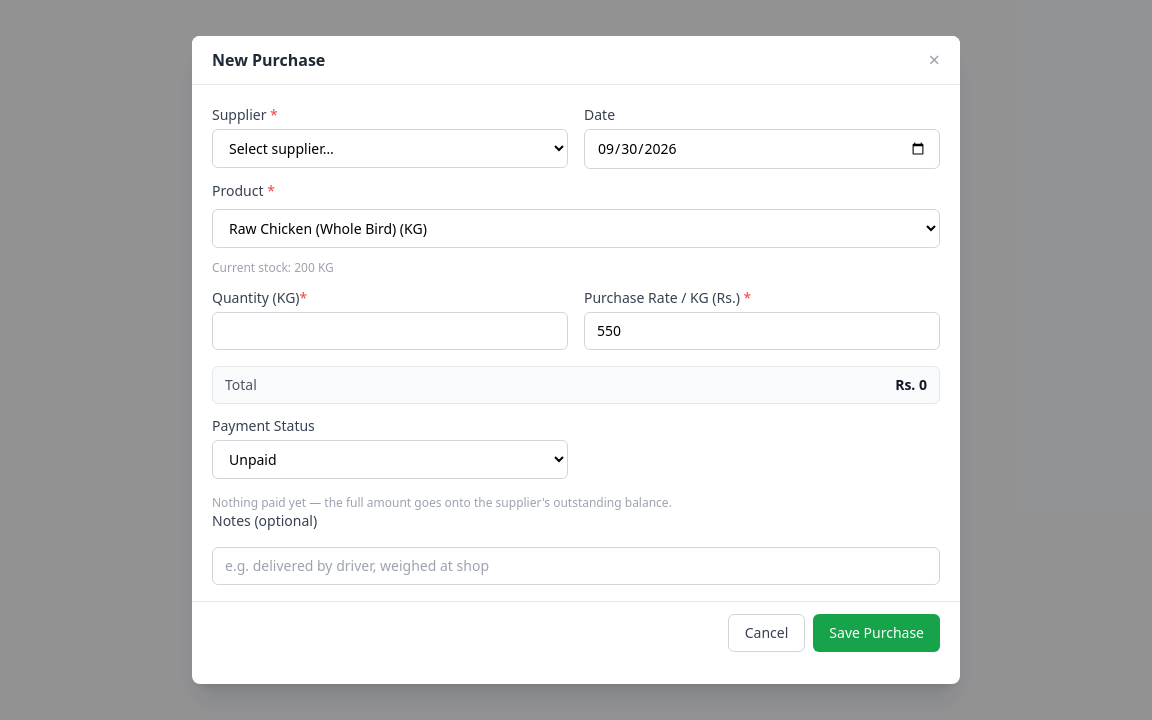
Test: NewPurchaseModal — Payment Status › Partially Paid requires and sends the entered amount
The image size is (1152, 720).
Check: the dropdown named "Product" shows "Raw Chicken (Whole Bird) (KG)", box [212,209,940,248]
Select "Ahmed Live Chicken Supplier" in the dropdown named "Supplier": {"x": 390, "y": 148} [212,129,568,168]
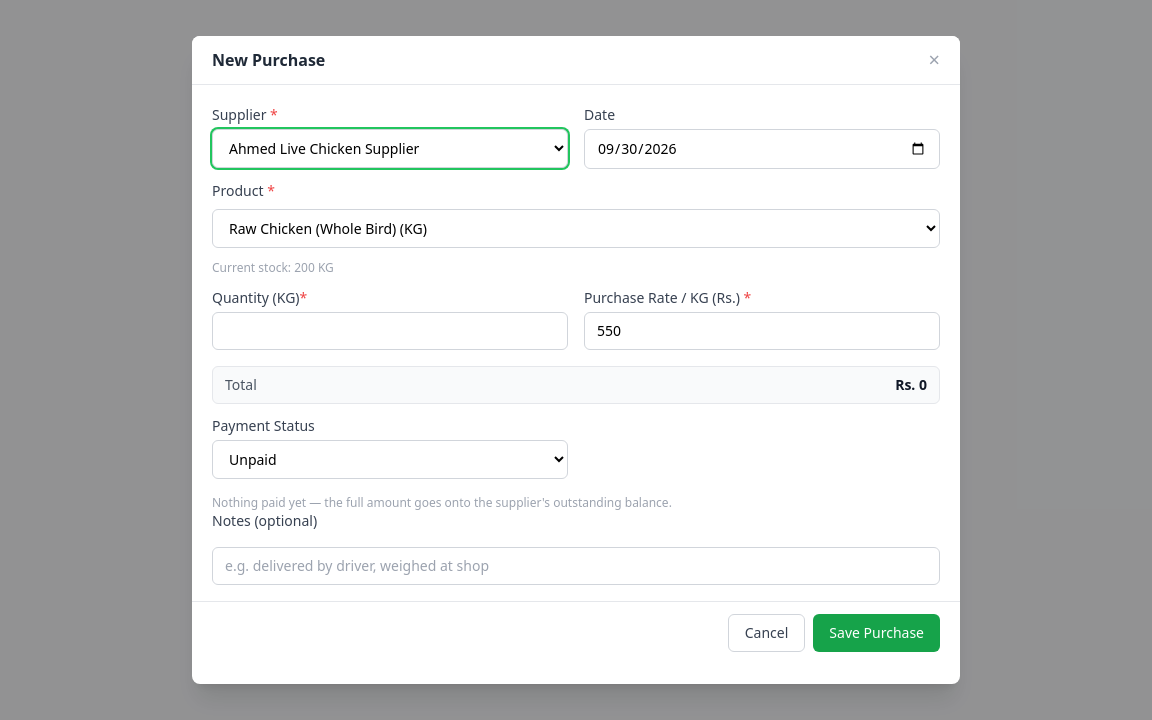
In the number field named "Quantity": {"x": 390, "y": 331} [212,312,568,350], type "100"
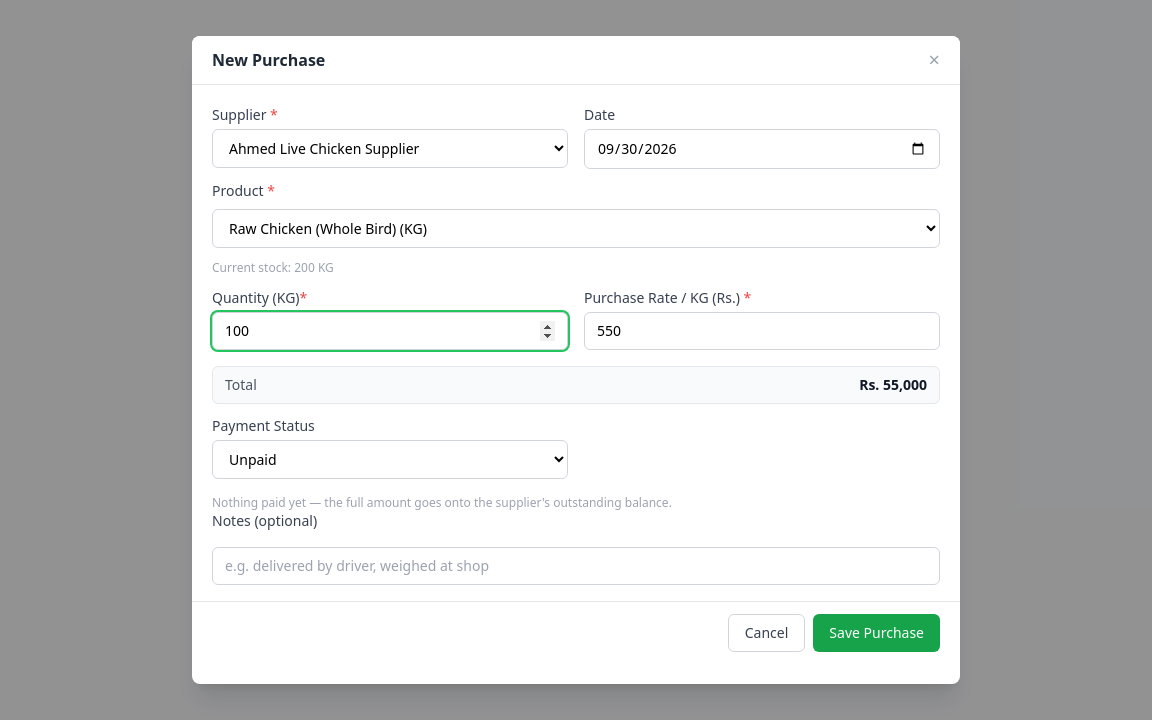
Select "Partially Paid" in the dropdown named "Payment Status": {"x": 390, "y": 460} [212,440,568,479]
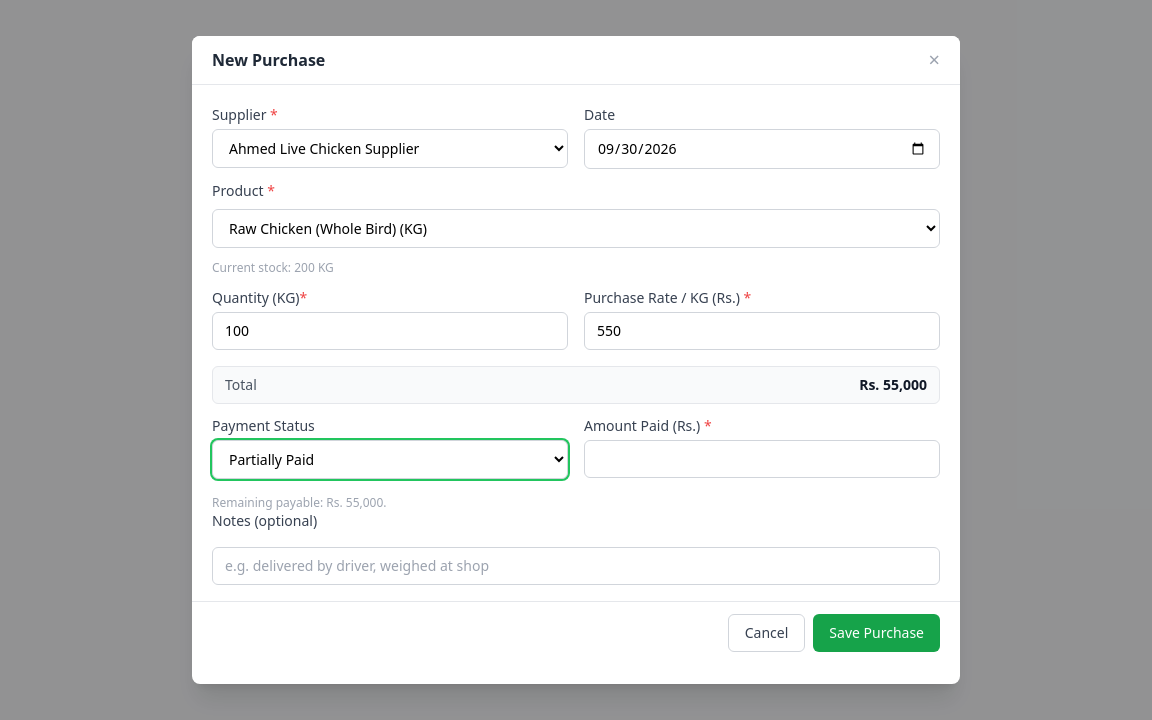
Click the button "Save Purchase": {"x": 877, "y": 633} [813,614,940,652]
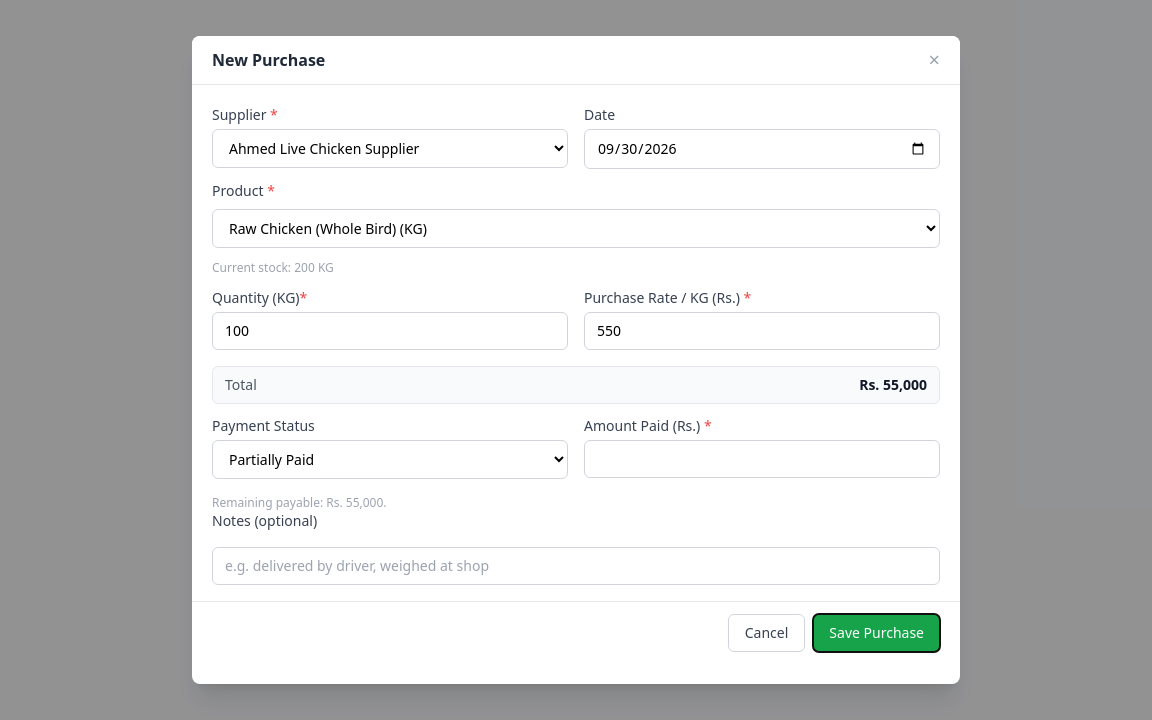
In the number field named "Amount Paid": {"x": 762, "y": 459} [584,440,940,478], type "20000"
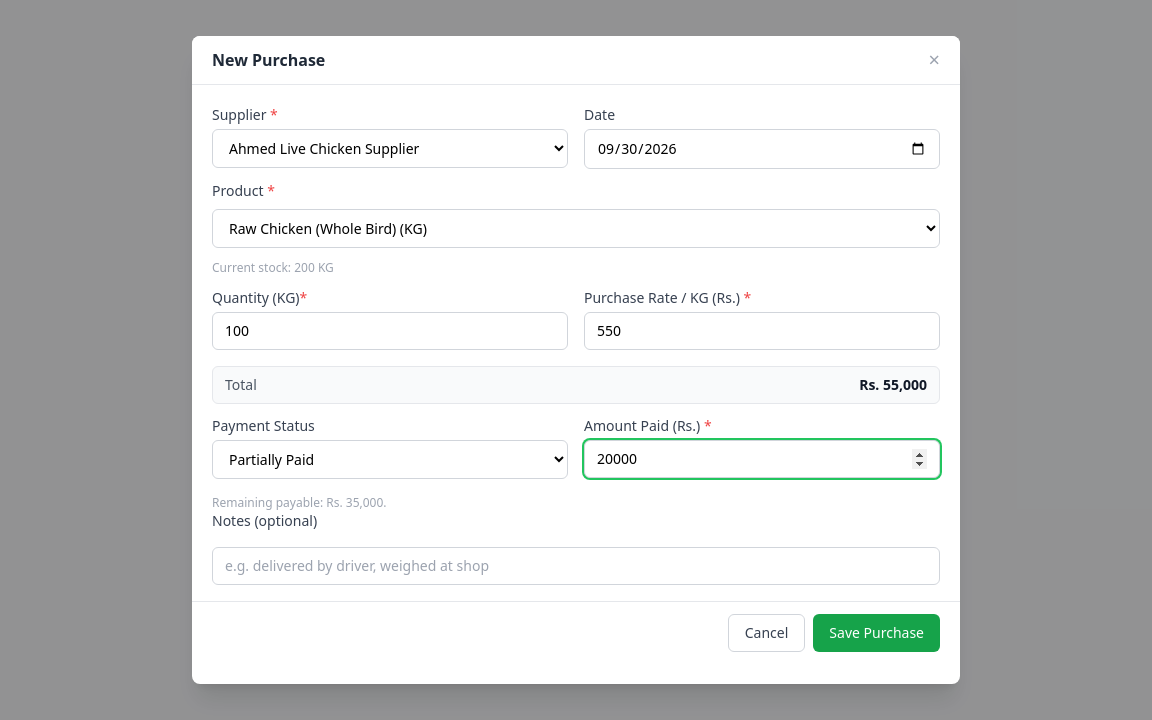
Click the button "Save Purchase": {"x": 877, "y": 633} [813,614,940,652]
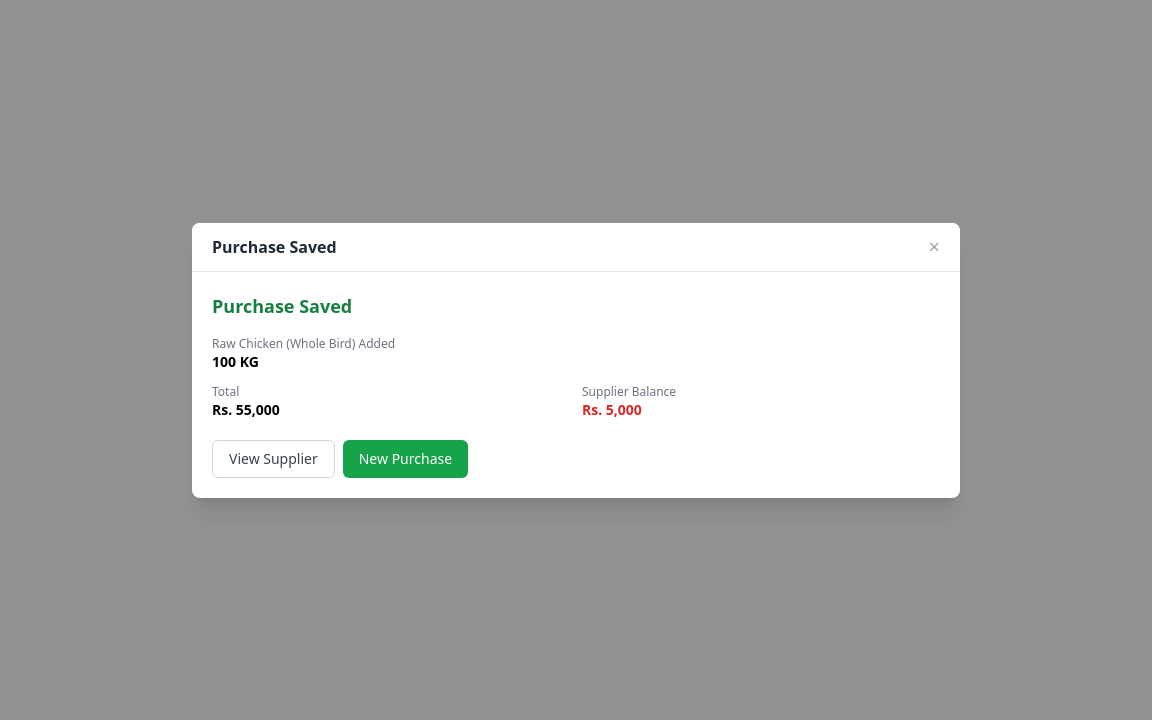
Check: the button "New Purchase" is shown, box [343,440,468,478]
